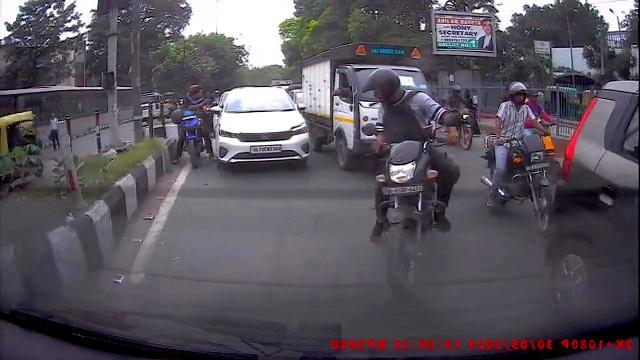motorcycle_with_helmet: (359, 65, 463, 297), (480, 82, 560, 237)
motorcycle_without_helmet: (174, 82, 212, 169)
